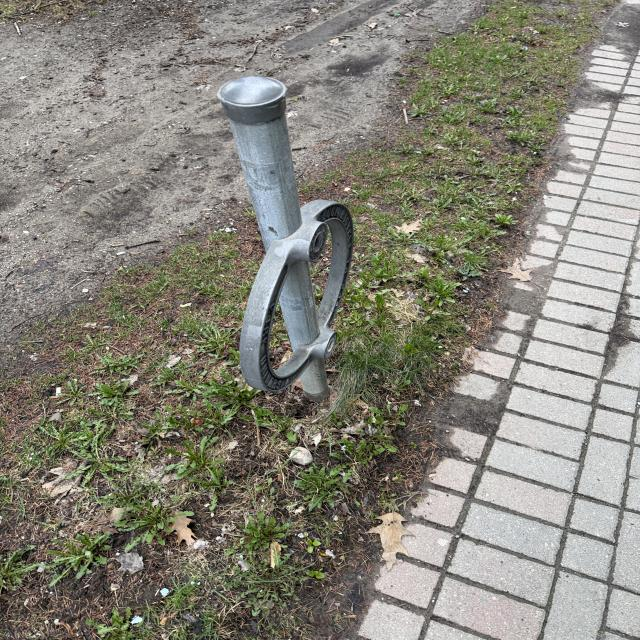Bicycle Rack: (218, 74, 366, 416)
